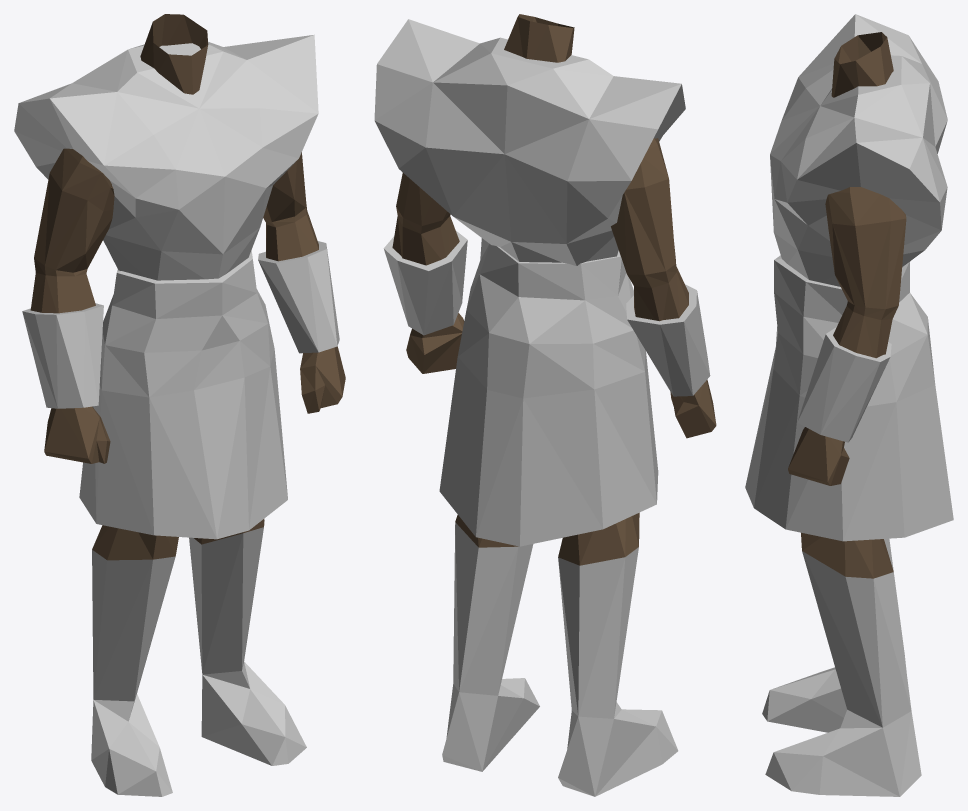
File: ARMOR_NOV_L.OBJ
3 renders of one model, left to right at view 1: azimuth 30°, elevation 25°; view 2: azimuth 150°, elevation 25°; view 3: azimuth 270°, elevation 25°, orthographic. The views are drawn at different scales.
Visible parts, largest first — view 1: ARMOR_NOV_L; view 2: ARMOR_NOV_L; view 3: ARMOR_NOV_L.
Part boxes in pixels (x1,y1,x2,y2): ARMOR_NOV_L: [14, 14, 345, 796]; ARMOR_NOV_L: [374, 14, 716, 796]; ARMOR_NOV_L: [745, 14, 953, 796].
Size of the model in its own units: 0.7272 by 1.7 by 0.4428.
